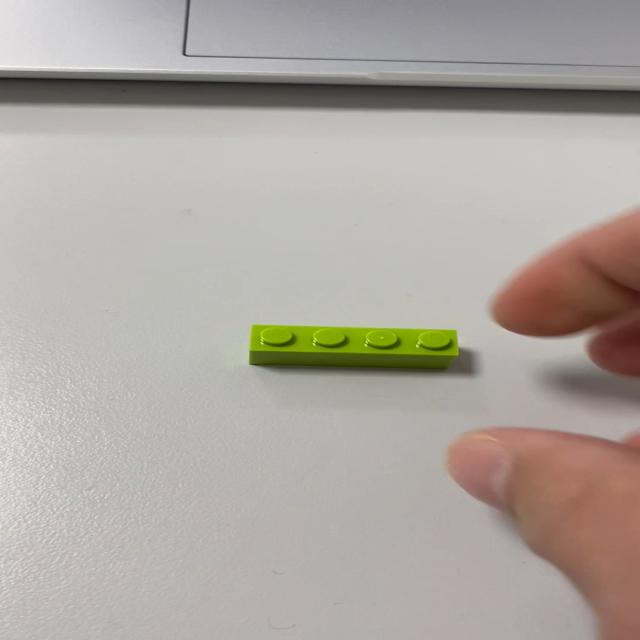C4x1x1: (247, 324, 460, 371)
